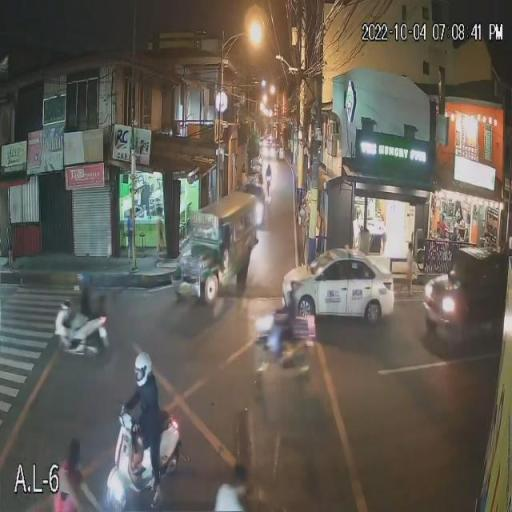helmet: (131, 348, 156, 388), (75, 270, 94, 290)
motorcycle: (105, 428, 180, 504), (51, 304, 118, 360)
rider: (134, 389, 166, 507), (73, 296, 91, 353)
